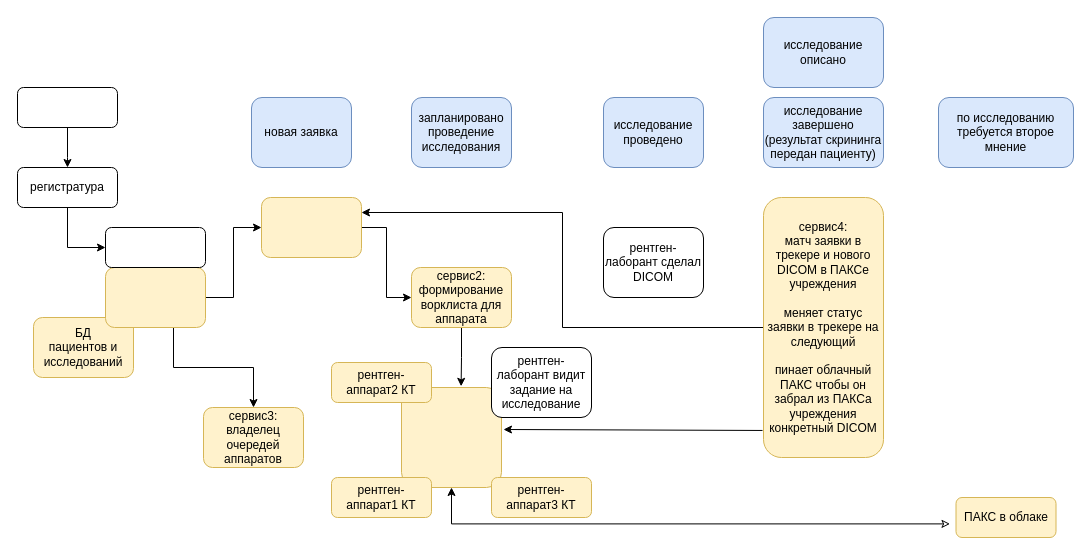
Some shapes in this 1091 by 555 pixel diagram are drawn without their labels. The shapes that lost their labels are listed below. From the top down, each one's centre as x and y in pixels, then its label:
At (x=67, y=107): "участник скрининга".
At (x=155, y=247): "заводят исследование".
At (x=311, y=227): "трекер: поля заполнены корректно".
At (x=155, y=297): "сервис1: веб-форма заведения исследования".
At (x=451, y=437): "ПАКС медучреждения (уже есть, связан с рентген аппаратами)".
